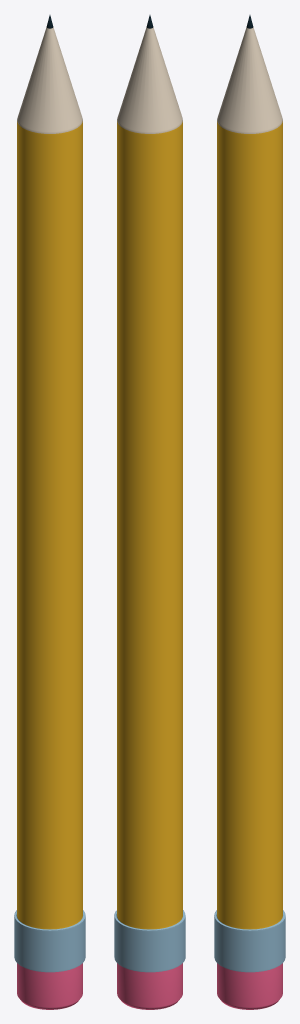
The model's file is Pencil.fbx.
3 views of the same model, side by side, from view 1: azimuth 90°, elevation 25°; view 2: azimuth 210°, elevation 25°; view 3: azimuth 270°, elevation 25° (orthographic).
Parts seen in each view (by area): view 1: Pencil; view 2: Pencil; view 3: Pencil.
Boxes of the visible parts, <box> form: Pencil: <box>14,15,85,1009</box>; Pencil: <box>114,15,185,1009</box>; Pencil: <box>214,15,285,1009</box>.
Bounding box in the file's own units: 1069 × 16259 × 1069.
